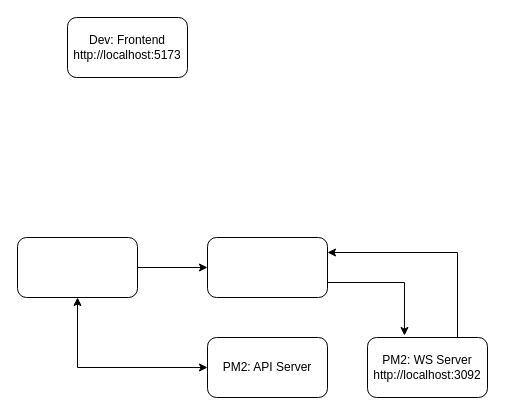
This 505x415 diagram has some shape labels left out. The shapes that lost their labels are listed below. From the top down, each one's box as (x1, y1, x2, y2) in pixels, then its label:
(16, 236, 138, 298): Nginx
(206, 236, 328, 298): Prod: Frontend https://jobs.localhost
